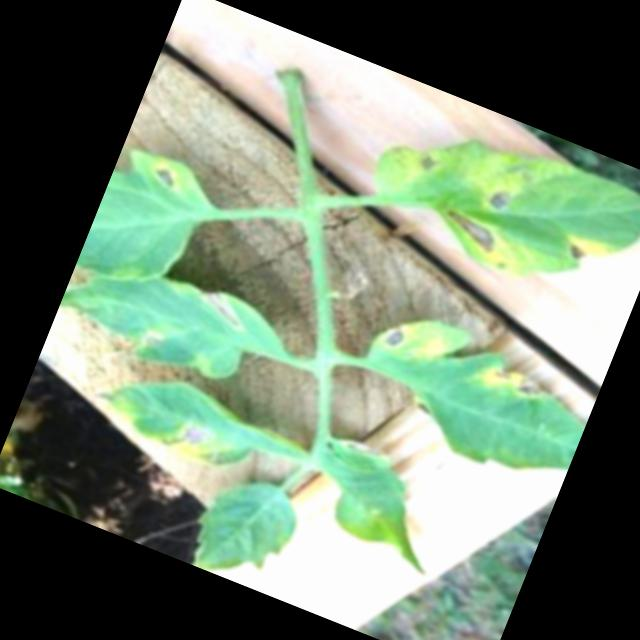Early_blight: (432, 205, 524, 274), (470, 354, 556, 412), (191, 280, 256, 336), (559, 229, 615, 275), (172, 419, 218, 465), (374, 319, 417, 362), (481, 183, 519, 218), (146, 159, 181, 192), (343, 438, 384, 464), (137, 328, 168, 356)
